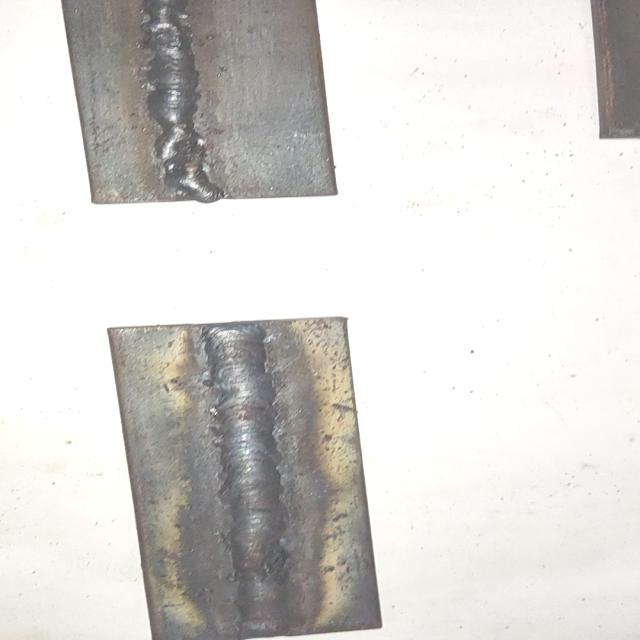Bad Weld: (141, 0, 217, 197)
Defect: (134, 122, 239, 196)
Good Weld: (202, 327, 294, 635)
